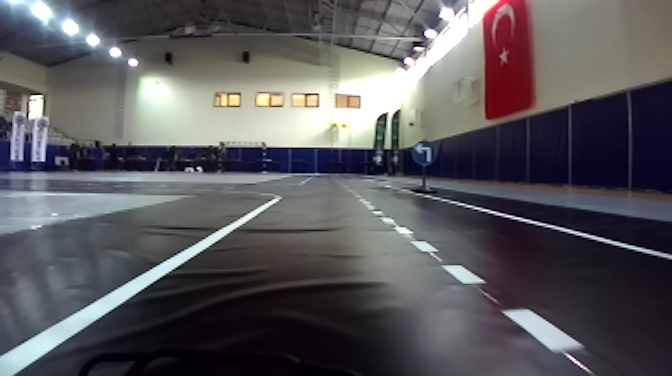sola_donus: (413, 139, 439, 164)
